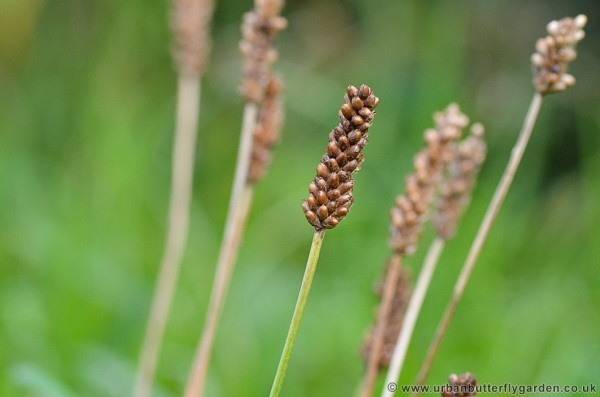buckhorn plantain: (310, 72, 381, 359)
